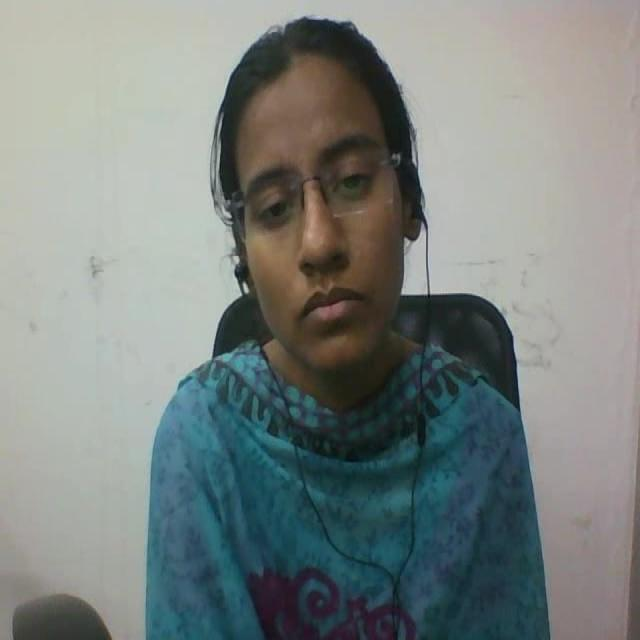Bored: (198, 3, 464, 420)
